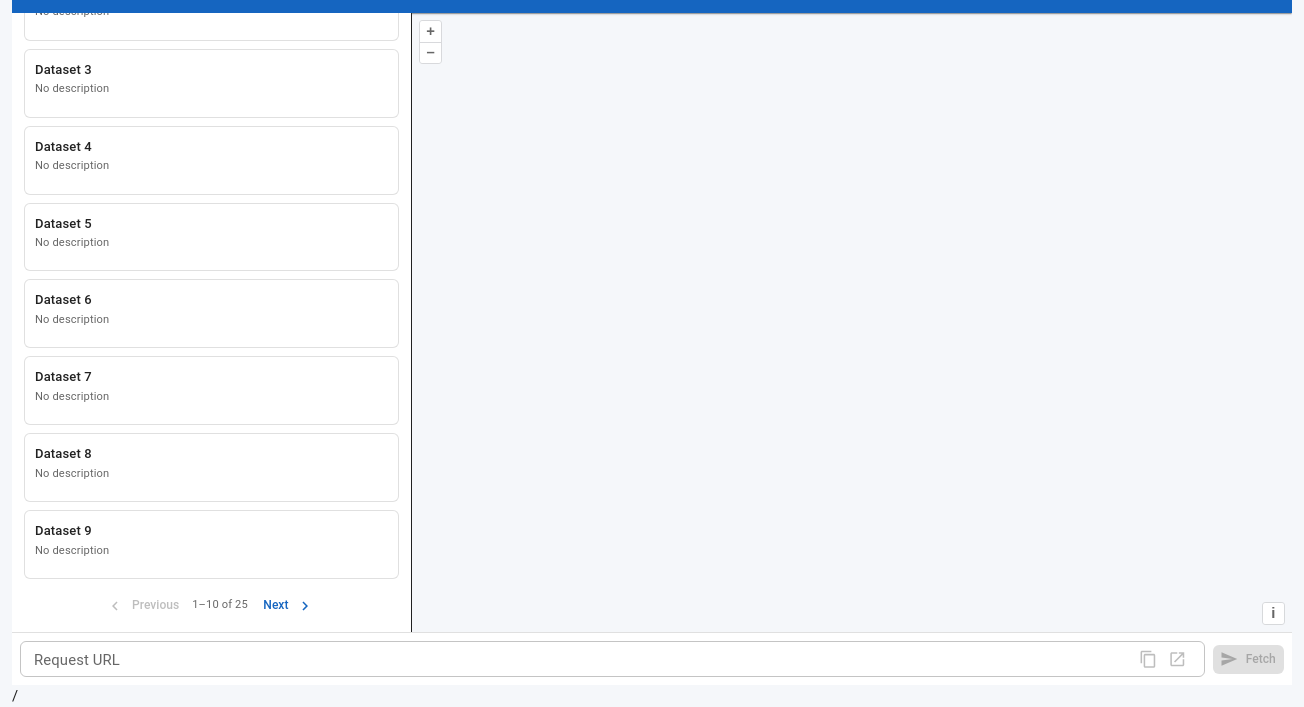
Test: paging (catalogue) › pages 10 at a time with Previous / Next
(page scrolled)
Expected: the text with test id "page-info" reads "1–10 of 25", 192,598 -> 248,611
Expected: the button "Previous" is disabled, 103,591 -> 184,620
Click the button "Next": [288, 606] box 256,591 -> 320,620
(page scrolled)
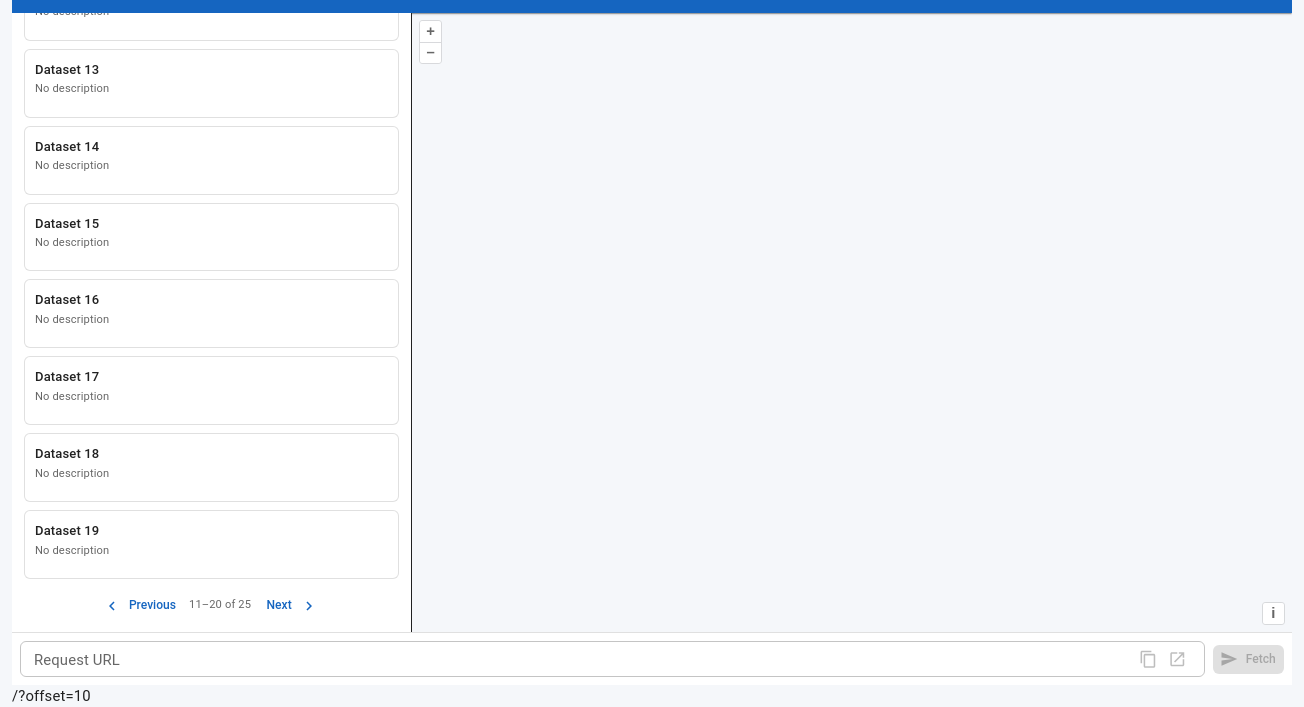
Expected: the text with test id "page-info" reads "11–20 of 25", 189,598 -> 251,611
Click the button "Next": [291, 606] box 259,591 -> 323,620
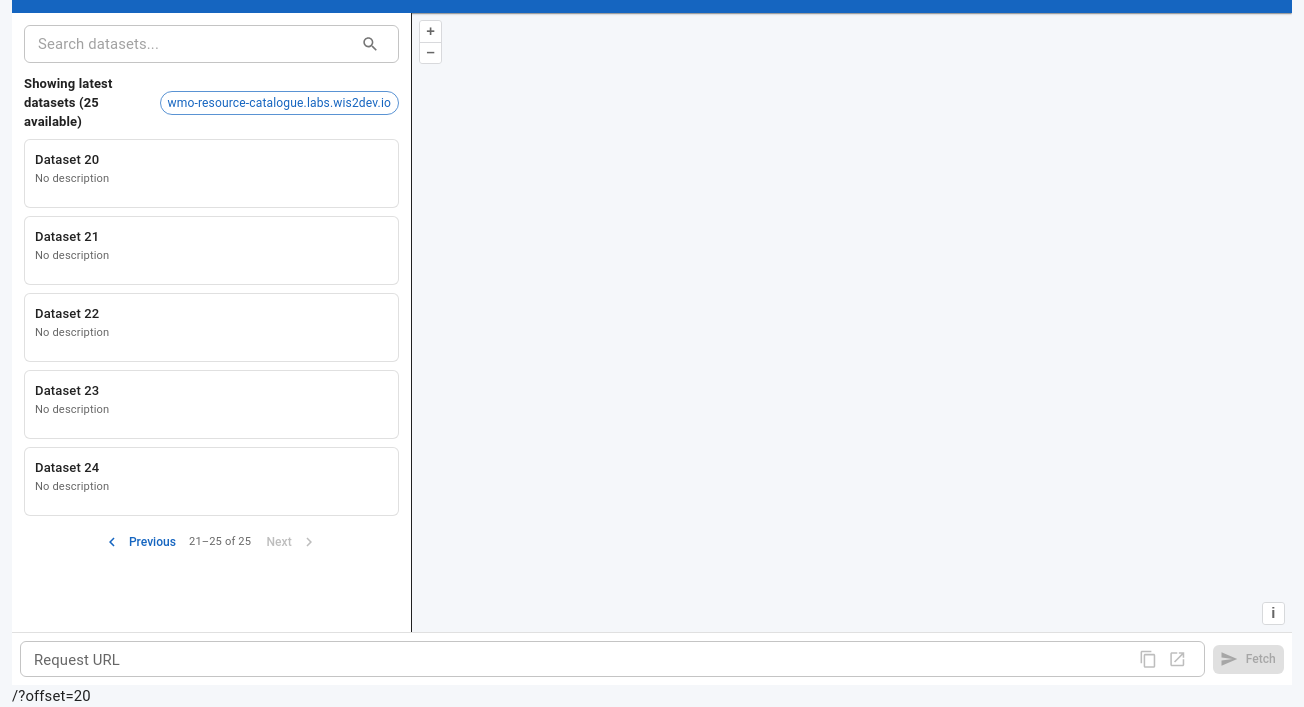
Expected: the heading "Dataset 20" is shown, 35,152 -> 99,167
Expected: the number of elements with test id "result-card" is 5, 24,139 -> 399,208; 24,216 -> 399,285; 24,293 -> 399,362; 24,370 -> 399,439; 24,447 -> 399,516
Expected: the text with test id "page-info" reads "21–25 of 25", 189,535 -> 251,548
Click the button "Previous": [140, 542] box 100,528 -> 181,557
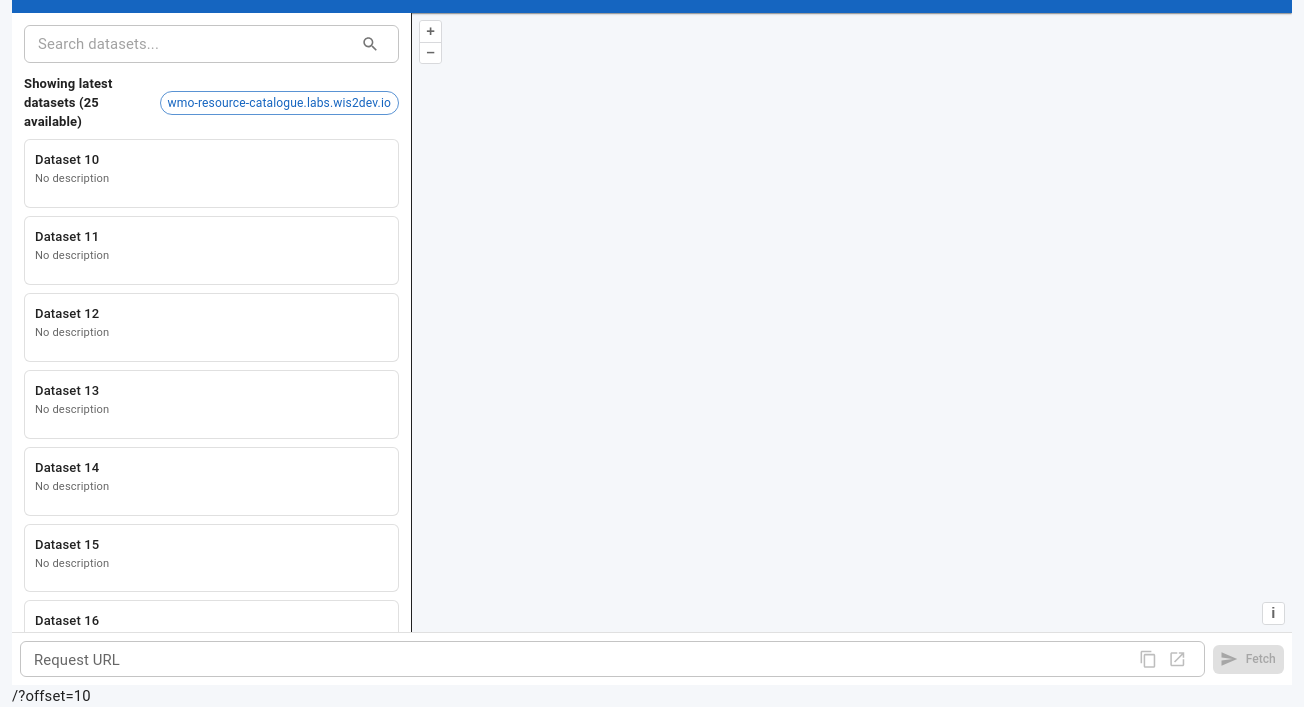
Expected: the heading "Dataset 10" is shown, 35,152 -> 99,167
